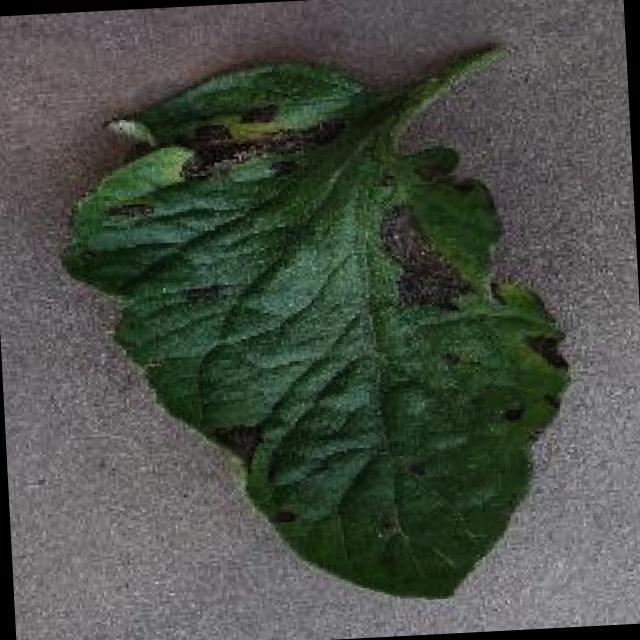Tomato Early blight leaf: (50, 31, 578, 620)
